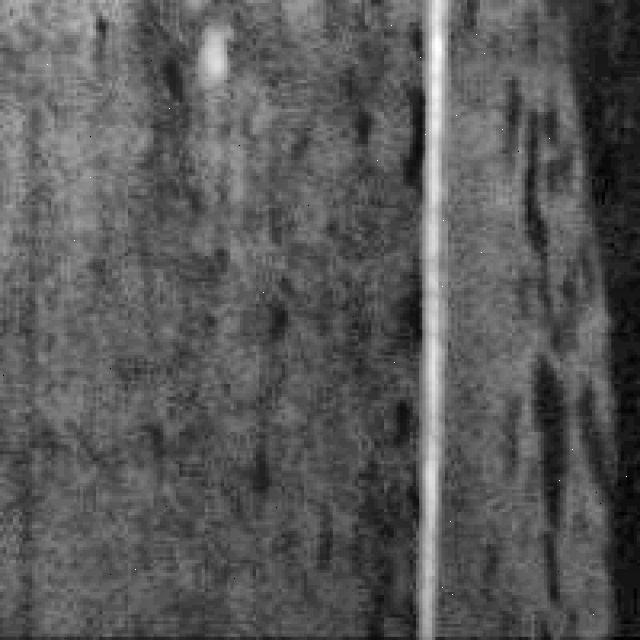Inclusion: (400, 0, 458, 634)
